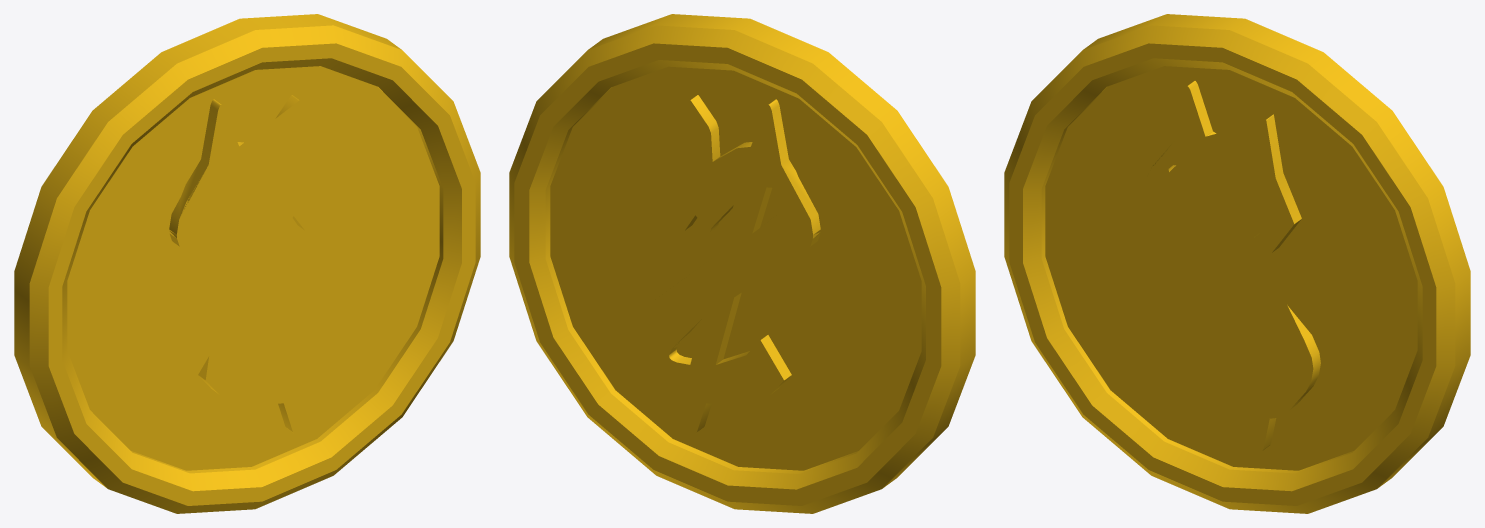
The model's file is coin.fbx.
3 views of the same model, side by side, from view 1: azimuth 30°, elevation 25°; view 2: azimuth 150°, elevation 25°; view 3: azimuth 330°, elevation 25° (orthographic).
Parts seen in each view (by area): view 1: Coin; view 2: Coin; view 3: Coin.
Part boxes in pixels (bbox=[...]): Coin: bbox=[14, 14, 480, 513]; Coin: bbox=[509, 14, 975, 513]; Coin: bbox=[1004, 14, 1470, 513].
Bounding box in the file's own units: 197 × 200 × 22.24.
